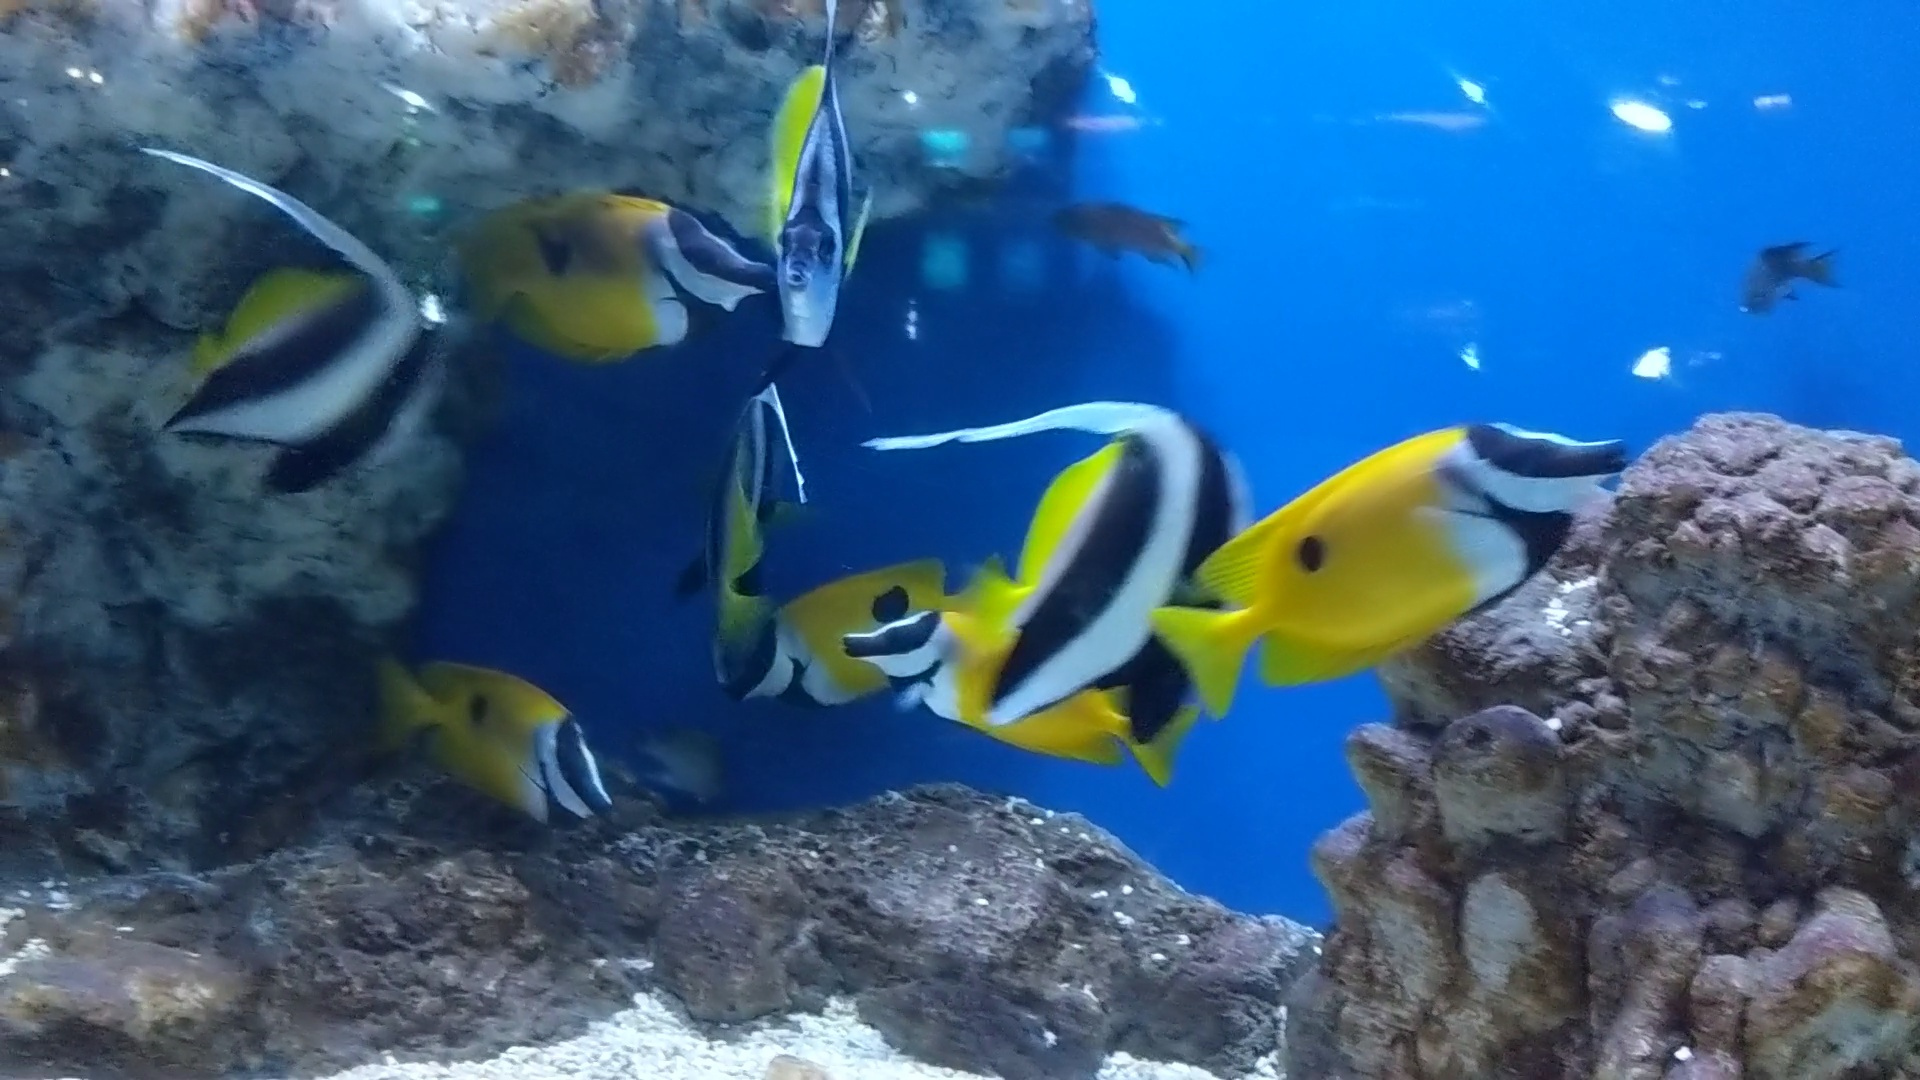moorfish: (107, 112, 483, 514), (862, 382, 1242, 754), (704, 0, 893, 348), (715, 0, 893, 367), (665, 414, 789, 700)
rabbitfish: (1187, 414, 1621, 738), (421, 146, 796, 375), (351, 626, 634, 836), (727, 553, 963, 723)
